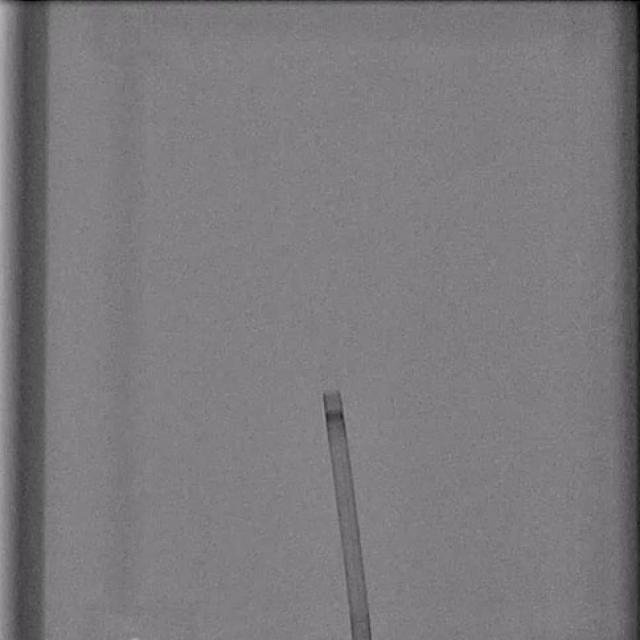bend: (347, 596, 369, 608)
entry: (350, 634, 372, 640)
marker: (324, 410, 344, 425)
tip: (323, 391, 341, 396)
